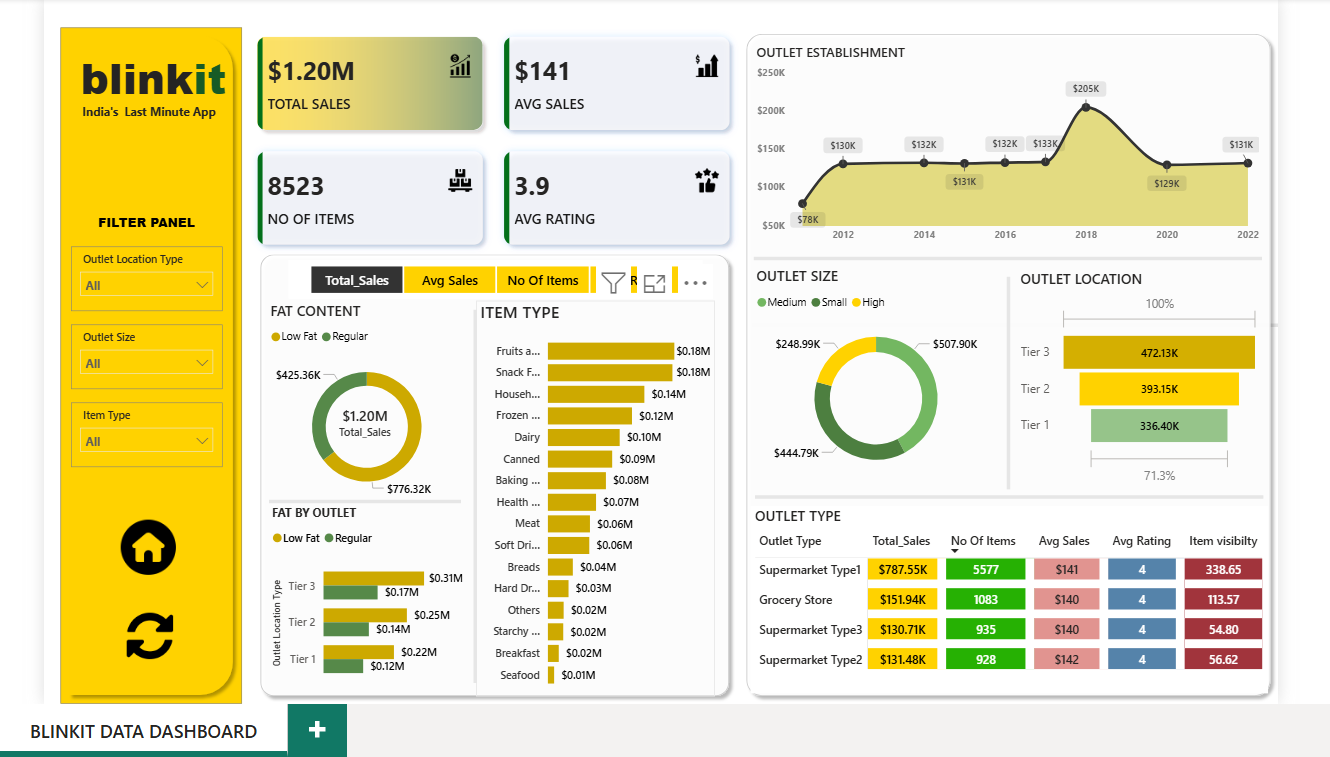

Layout of this report page (visuals, bound fields, positions):
{"tool":"powerbi","page":{"name":"BLINKIT DATA DASHBOARD","canvas":[1400,800],"ordinal":0},"visuals":[{"type":"shape","box":[18.7,32.3,206,767.7],"z":0},{"type":"textbox","box":[30.6,49.4,187.2,78.3],"z":1000},{"type":"textbox","box":[18.7,112.3,200.9,34],"z":2000},{"type":"cardVisual","fields":{"Data":["BlinkIT Grocery Data.Total_Sales","BlinkIT Grocery Data.Avg Sales","BlinkIT Grocery Data.No Of Items","BlinkIT Grocery Data.Avg Rating"]},"box":[224.7,25.5,570.2,270.6],"z":3000},{"type":"shape","box":[236.6,280.9,549.8,519.1],"z":4000},{"type":"donutChart","title":"FAT CONTENT","fields":{"Y":["BlinkIT Grocery Data.Total_Sales"],"Category":["BlinkIT Grocery Data.Item Fat Content"]},"box":[251.9,342.1,228.1,236.6],"z":5000},{"type":"slicer","fields":{"Values":["Matrics.Matrics"]},"box":[277.4,296.2,469.8,44.3],"z":6000},{"type":"cardVisual","fields":{"Data":["BlinkIT Grocery Data.Total_Sales"]},"box":[304.7,444.3,119.1,64.7],"z":7000},{"type":"clusteredBarChart","title":"FAT BY OUTLET","fields":{"Y":["BlinkIT Grocery Data.Total_Sales"],"Category":["BlinkIT Grocery Data.Outlet Location Type"],"Series":["BlinkIT Grocery Data.Item Fat Content"]},"box":[253.6,573.6,226.4,214.5],"z":8000},{"type":"shape","box":[255.3,561.7,217.9,17],"z":9000},{"type":"shape","box":[803.4,340.4,597.4,59.6],"z":10000},{"type":"barChart","title":"ITEM TYPE","fields":{"Y":["BlinkIT Grocery Data.Total_Sales"],"Category":["BlinkIT Grocery Data.Item Type"]},"box":[490.2,342.1,270.6,449.4],"z":11000},{"type":"shape","box":[788.1,30.6,612.8,769.4],"z":12000},{"type":"lineChart","title":"OUTLET ESTABLISHMENT ","fields":{"Y":["BlinkIT Grocery Data.Total_Sales"],"Category":["BlinkIT Grocery Data.Outlet Establishment Year"]},"box":[803.4,49.4,580.4,234.9],"z":13000},{"type":"shape","box":[481.7,352.3,15.3,423.8],"z":14000},{"type":"shape","box":[805.1,282.6,577,23.8],"z":15000},{"type":"donutChart","title":"OUTLET SIZE","fields":{"Y":["BlinkIT Grocery Data.Total_Sales"],"Category":["BlinkIT Grocery Data.Outlet Size"]},"box":[803.4,303,280.9,250.2],"z":16000},{"type":"shape","box":[1087.7,314.9,13.6,241.7],"z":17000},{"type":"funnel","title":"OUTLET LOCATION","fields":{"Y":["Sum(BlinkIT Grocery Data.Sales)"],"Category":["BlinkIT Grocery Data.Outlet Location Type"]},"box":[1103,306.4,280.9,250.2],"z":18000},{"type":"shape","box":[806.8,553.2,577,23.8],"z":19000},{"type":"pivotTable","title":"OUTLET TYPE","fields":{"Rows":["BlinkIT Grocery Data.Outlet Type"],"Values":["BlinkIT Grocery Data.Total_Sales","BlinkIT Grocery Data.No Of Items","BlinkIT Grocery Data.Avg Sales","BlinkIT Grocery Data.Avg Rating","Sum(BlinkIT Grocery Data.Item Visibility)"]},"box":[801.7,575.3,587.2,212.8],"z":20000},{"type":"slicer","fields":{"Values":["BlinkIT Grocery Data.Outlet Location Type"]},"box":[30.6,280.9,171.9,73.2],"z":21000},{"type":"slicer","fields":{"Values":["BlinkIT Grocery Data.Outlet Size"]},"box":[30.6,369.4,171.9,73.2],"z":22000},{"type":"slicer","fields":{"Values":["BlinkIT Grocery Data.Item Type"]},"box":[30.6,457.9,171.9,73.2],"z":23000},{"type":"textbox","box":[40.9,238.3,151.5,34],"z":24000},{"type":"image","box":[88.5,691.1,63,63],"z":25000},{"type":"image","box":[81.7,582.1,73.2,80],"z":26000}]}

Visuals, with their boxes in screenshot pixels (x1, y1, x2, y2), scaled from the page's 1400x800 canvas onto the 1330x757 screenshot:
shape: {"left": 18, "top": 31, "right": 213, "bottom": 756}
textbox: {"left": 29, "top": 47, "right": 207, "bottom": 121}
textbox: {"left": 18, "top": 106, "right": 209, "bottom": 138}
cardVisual - BlinkIT Grocery Data.Total_Sales x BlinkIT Grocery Data.Avg Sales: {"left": 213, "top": 24, "right": 755, "bottom": 280}
shape: {"left": 225, "top": 266, "right": 747, "bottom": 756}
"FAT CONTENT" donutChart: {"left": 239, "top": 324, "right": 456, "bottom": 548}
slicer - Matrics.Matrics: {"left": 264, "top": 280, "right": 710, "bottom": 322}
cardVisual - BlinkIT Grocery Data.Total_Sales: {"left": 289, "top": 420, "right": 403, "bottom": 482}
"FAT BY OUTLET" clusteredBarChart: {"left": 241, "top": 543, "right": 456, "bottom": 746}
shape: {"left": 243, "top": 532, "right": 450, "bottom": 548}
shape: {"left": 763, "top": 322, "right": 1329, "bottom": 378}
"ITEM TYPE" barChart: {"left": 466, "top": 324, "right": 723, "bottom": 749}
shape: {"left": 749, "top": 29, "right": 1329, "bottom": 756}
"OUTLET ESTABLISHMENT " lineChart: {"left": 763, "top": 47, "right": 1315, "bottom": 269}
shape: {"left": 458, "top": 333, "right": 472, "bottom": 734}
shape: {"left": 765, "top": 267, "right": 1313, "bottom": 290}
"OUTLET SIZE" donutChart: {"left": 763, "top": 287, "right": 1030, "bottom": 523}
shape: {"left": 1033, "top": 298, "right": 1046, "bottom": 527}
"OUTLET LOCATION" funnel: {"left": 1048, "top": 290, "right": 1315, "bottom": 527}
shape: {"left": 766, "top": 523, "right": 1315, "bottom": 546}
"OUTLET TYPE" pivotTable: {"left": 762, "top": 544, "right": 1319, "bottom": 746}
slicer - BlinkIT Grocery Data.Outlet Location Type: {"left": 29, "top": 266, "right": 192, "bottom": 335}
slicer - BlinkIT Grocery Data.Outlet Size: {"left": 29, "top": 350, "right": 192, "bottom": 419}
slicer - BlinkIT Grocery Data.Item Type: {"left": 29, "top": 433, "right": 192, "bottom": 503}
textbox: {"left": 39, "top": 225, "right": 183, "bottom": 258}
image: {"left": 84, "top": 654, "right": 144, "bottom": 714}
image: {"left": 78, "top": 551, "right": 147, "bottom": 627}
